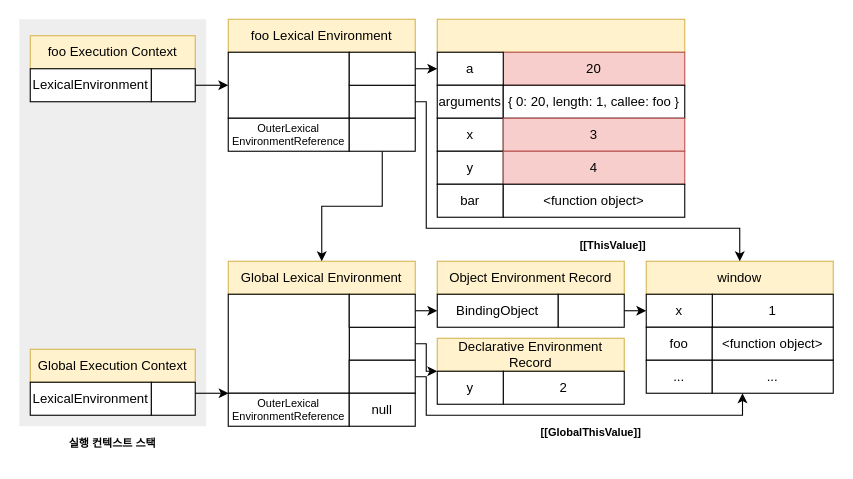
The diagram is 853 pixels wide and 479 high, and some of its shapes have lost their labels. Here are the shapes that lost their labels. From the top down, the centre of each, then its label:
pixel 560 35: Function Environment Record
pixel 288 84: FunctionEnvironment Record
pixel 288 343: GlobalEnvironment Record
